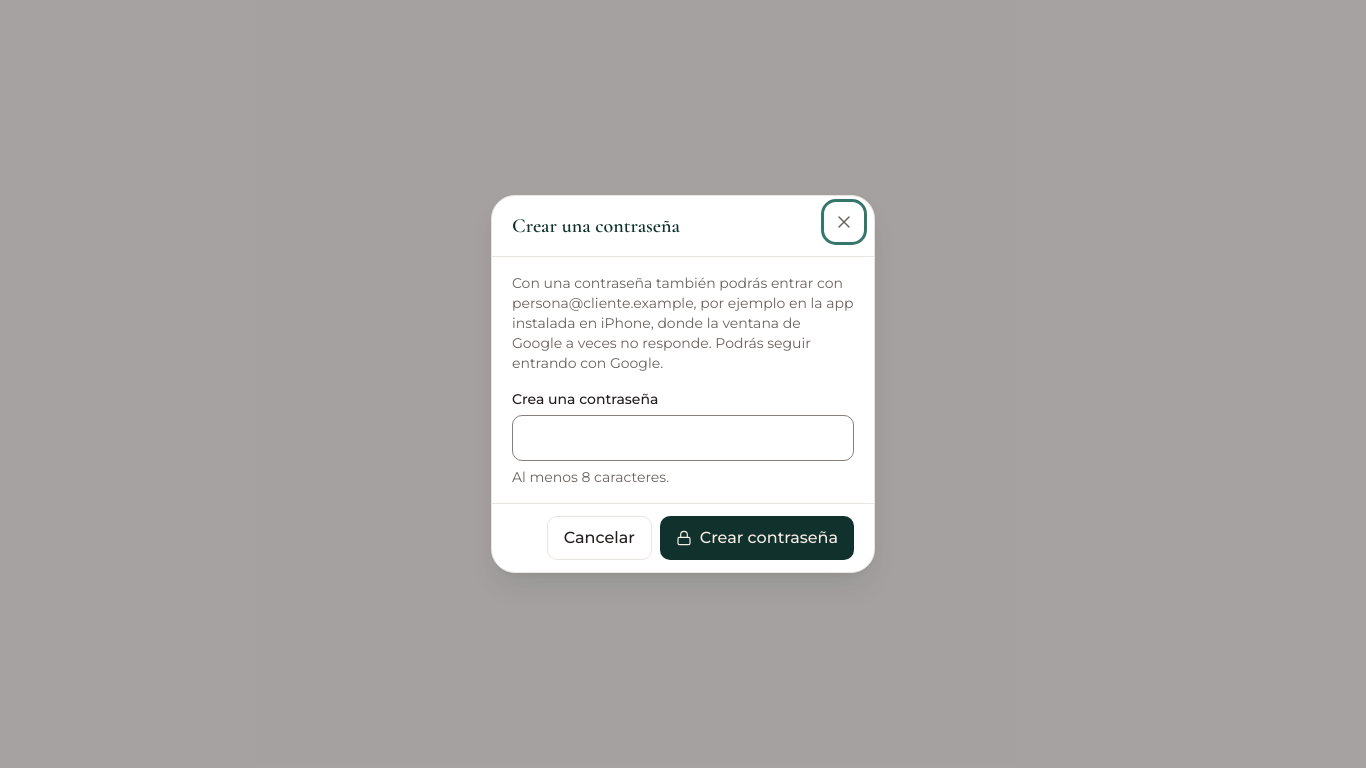
Test case: a password for a Google account › asks for 8 characters, then adds it and says how to sign in now
The image size is (1366, 768).
Expected: the text "también podrás entrar con persona@cliente.example" is shown, 512,274 -> 854,372
Type "corta" into the password field labelled "Crea una contraseña". click: x=683, y=438
box: 512,415 -> 854,461
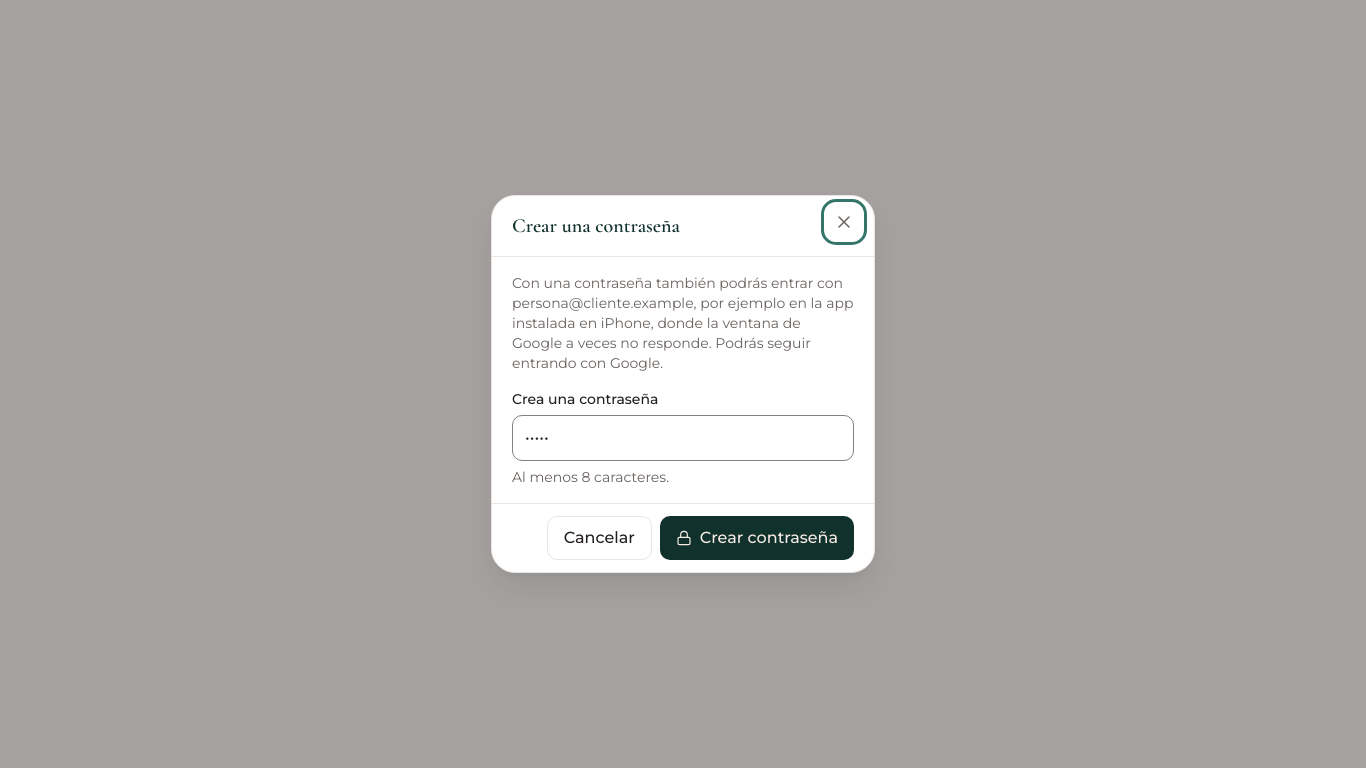
Click the button "Crear contraseña". click: x=757, y=538
box: 660,516 -> 854,560
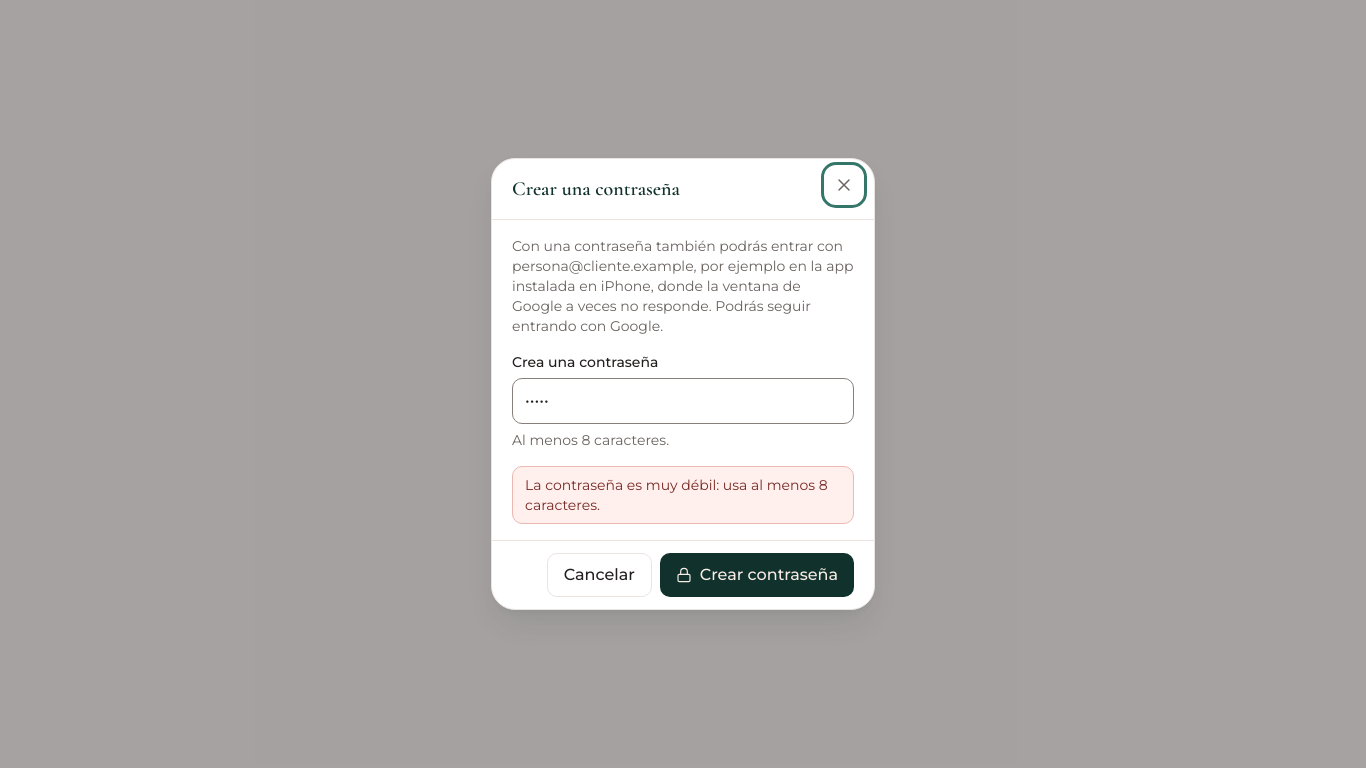
Result: the message shows "al menos 8 caracteres" at 525,476 -> 828,514
Type "una-contraseña-larga" into the password field labelled "Crea una contraseña". click: x=683, y=401
box: 512,378 -> 854,424
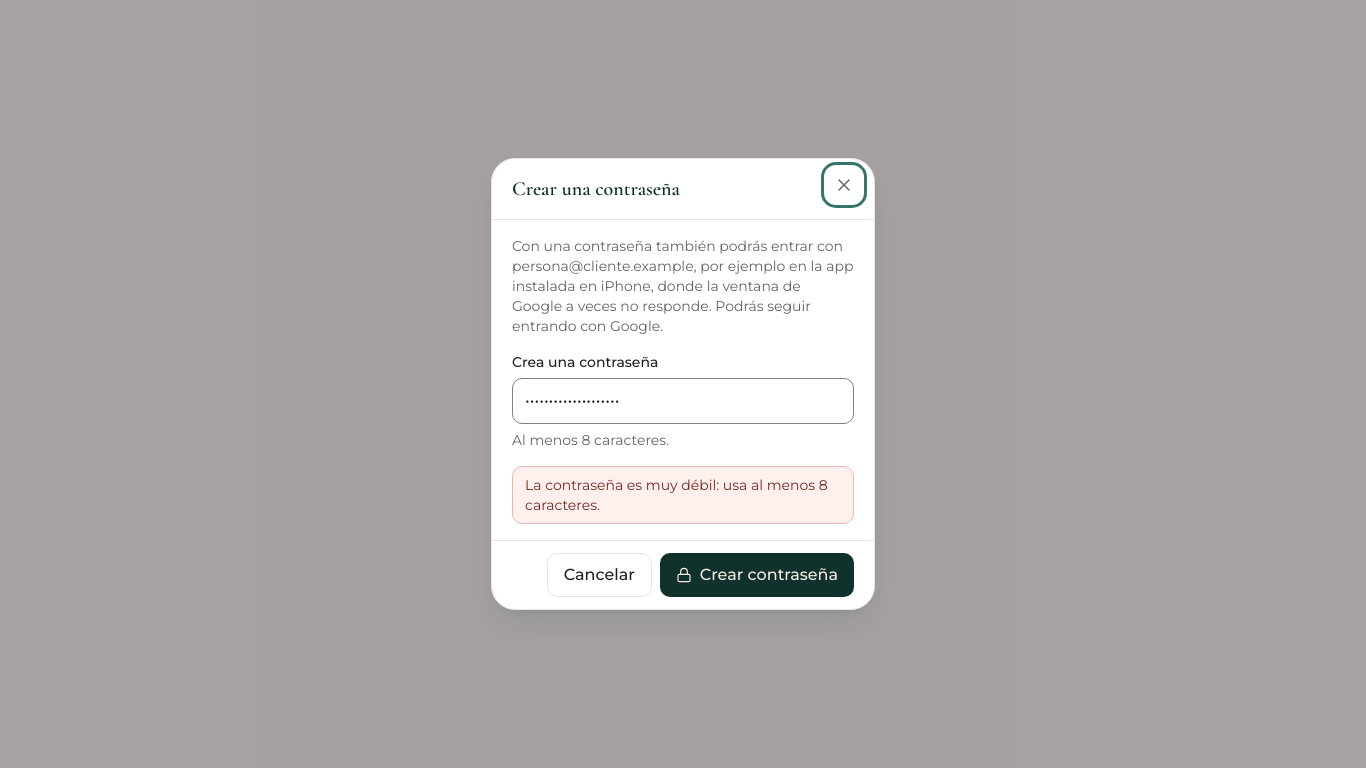
Click the button "Crear contraseña". click: x=757, y=575
box: 660,553 -> 854,597
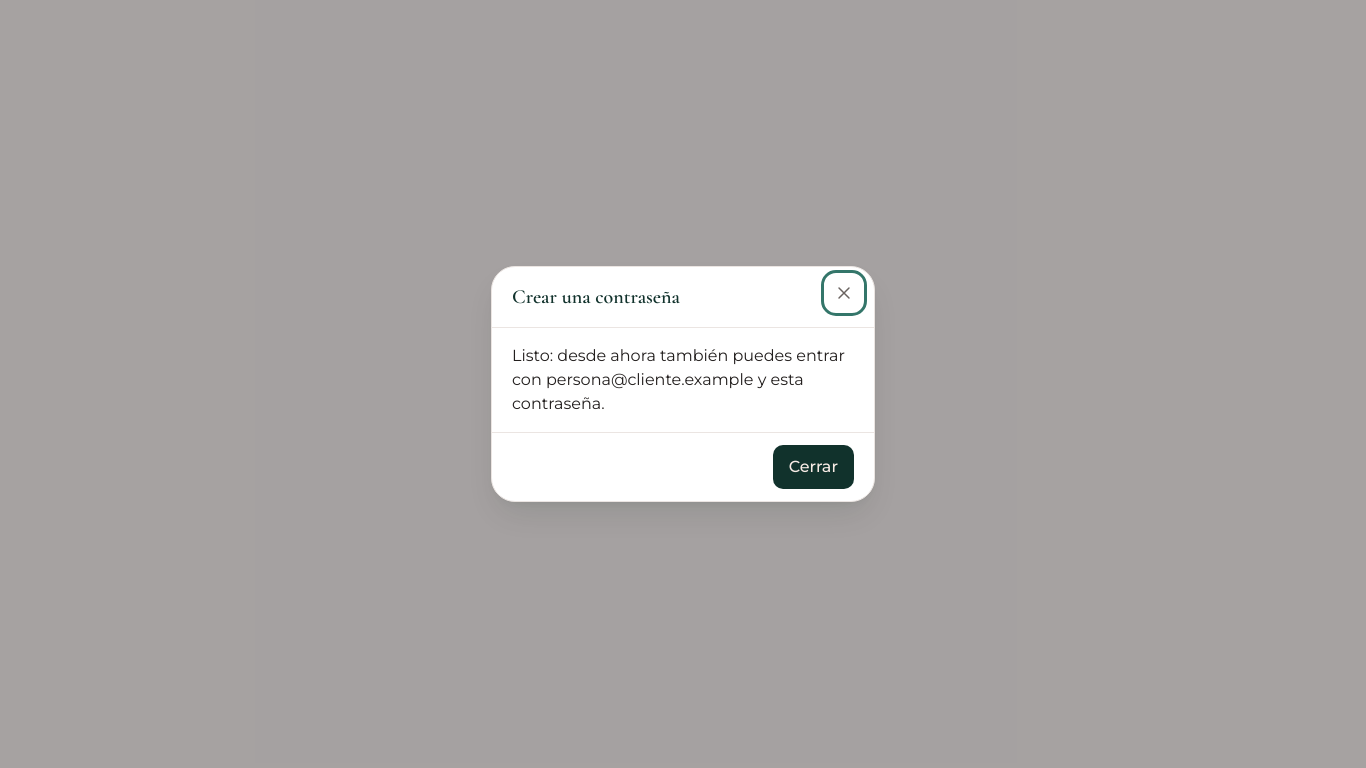
Result: the message shows "también puedes entrar con persona@cliente.example y esta contraseña" at 512,346 -> 845,413
